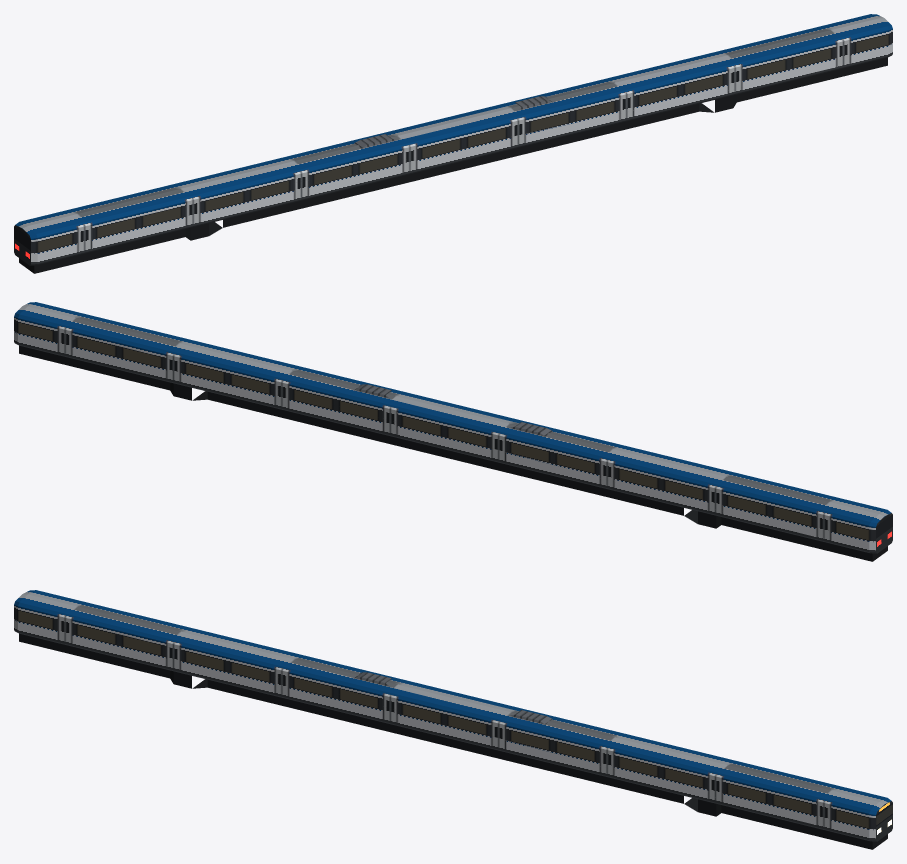
File: scotrail_class_385__neutral.glb
The picture shows the model from 3 angles, top to bottom: view 1: azimuth 30°, elevation 25°; view 2: azimuth 150°, elevation 25°; view 3: azimuth 330°, elevation 25°; orthographic projection.
Visible parts, largest first — view 1: scotrail_class_385__neutral; view 2: scotrail_class_385__neutral; view 3: scotrail_class_385__neutral.
Boxes of the visible parts, <box> form: scotrail_class_385__neutral: <box>14,14,892,273</box>; scotrail_class_385__neutral: <box>14,302,892,561</box>; scotrail_class_385__neutral: <box>14,590,892,849</box>.
Size of the model in its own units: 71 by 3.75 by 2.8.
Materials: 1 (1 with a texture image).
